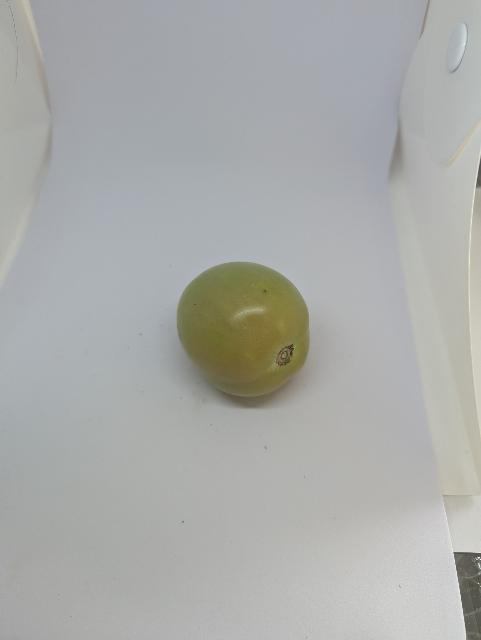green: (156, 249, 336, 422)
